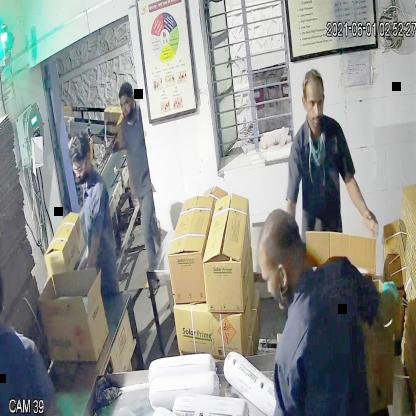goggles: (67, 155, 96, 181)
no_goggles: (299, 89, 326, 115)
